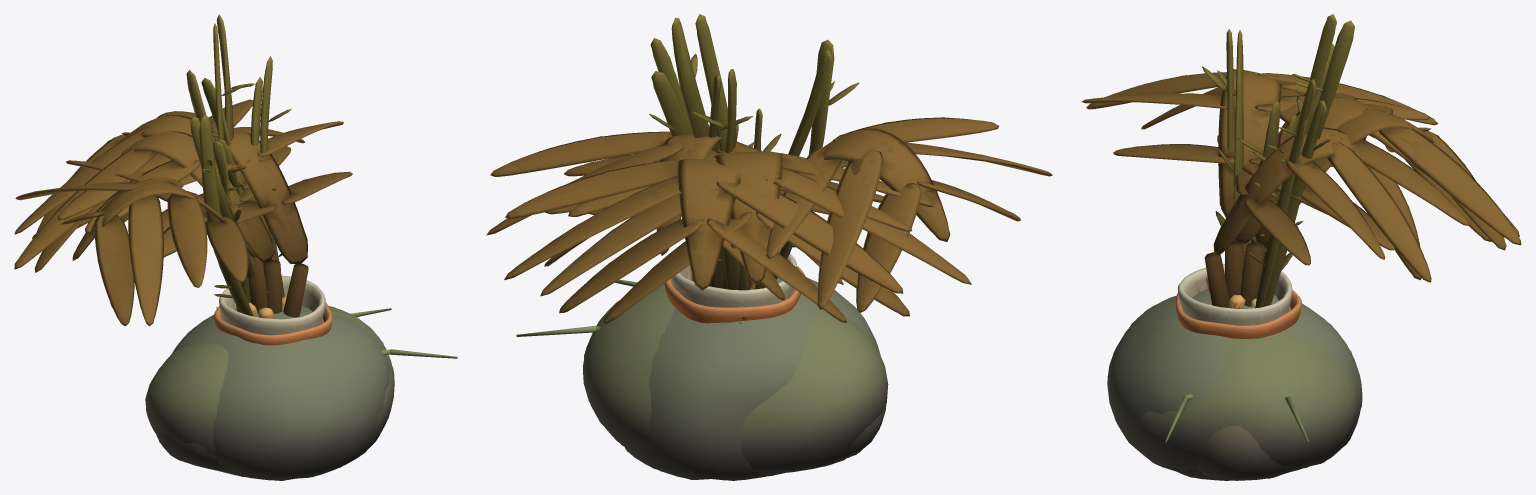
The model's file is rocky_cosy.glb.
3 renders of one model, left to right at view 1: azimuth 30°, elevation 25°; view 2: azimuth 150°, elevation 25°; view 3: azimuth 270°, elevation 25°, orthographic. The views are drawn at different scales.
Visible parts, largest first — view 1: boulder_2, kelp_2, boulder_2_lo, kelp_1, kelp_0, boulder_0, kelp_2_lo, kelp_3, crayweed_0, crayweed_1, kelp_1_lo, kelp_0_lo (+9 smaller); view 2: boulder_0, kelp_3, boulder_2, kelp_2, kelp_1, boulder_0_lo, boulder_2_lo, kelp_3_lo, kelp_2_lo, kelp_0, crayweed_0, kelp_1_lo (+8 smaller); view 3: boulder_0, kelp_0, boulder_2, kelp_3, kelp_2, boulder_0_lo, kelp_0_lo, crayweed_1, boulder_2_lo, kelp_2_lo, crayweed_0, kelp_1 (+10 smaller).
Part boxes in pixels (x1,y1,x2,y2): boulder_2: (175,308,390,480); kelp_2: (15,160,267,326); boulder_2_lo: (172,306,389,480); kelp_1: (14,131,282,313); kelp_0: (77,121,352,317); boulder_0: (146,306,394,471); kelp_2_lo: (16,160,267,326); kelp_3: (14,100,290,260); crayweed_0: (186,14,271,315); crayweed_1: (190,23,291,312); kelp_1_lo: (14,131,282,313); kelp_0_lo: (77,121,352,316); boulder_0: (583,285,887,474); kelp_3: (504,158,911,321); boulder_2: (625,277,880,480); kelp_2: (730,117,1052,312); kelp_1: (540,151,971,323); boulder_0_lo: (584,284,888,473); boulder_2_lo: (625,278,878,480); kelp_3_lo: (505,159,911,322); kelp_2_lo: (730,117,1051,311); kelp_0: (486,131,843,300); crayweed_0: (649,17,859,323); kelp_1_lo: (541,151,971,324); boulder_0: (1130,330,1358,471); kelp_0: (1204,122,1431,307); boulder_2: (1107,289,1362,480); kelp_3: (1240,93,1520,306); kelp_2: (1081,69,1437,258); boulder_0_lo: (1128,331,1358,471); kelp_0_lo: (1205,123,1431,307); crayweed_1: (1217,14,1336,308); boulder_2_lo: (1107,295,1362,480); kelp_2_lo: (1083,69,1437,245); crayweed_0: (1202,20,1354,306); kelp_1: (1217,88,1519,298).
Size of the model in its own units: 1.85 by 1.79 by 1.73.
